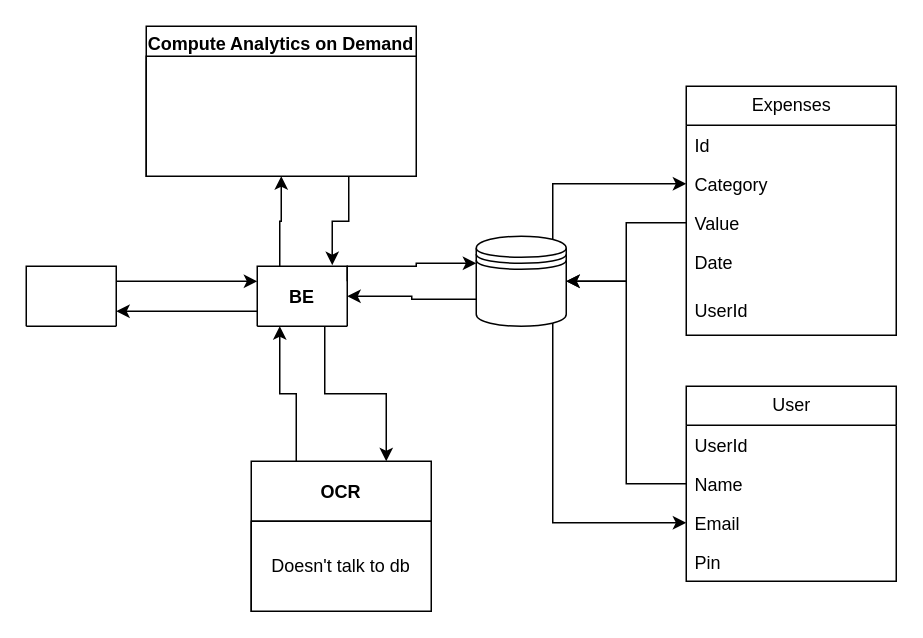
Image size: 923x638. Some labels were removed from this diagram. Each missing label, with the centre of its shape:
"DB" goes at [520,280].
"Doesn't talk to db, does calculations through queries" goes at [280,115].
"FE" goes at [70,295].
